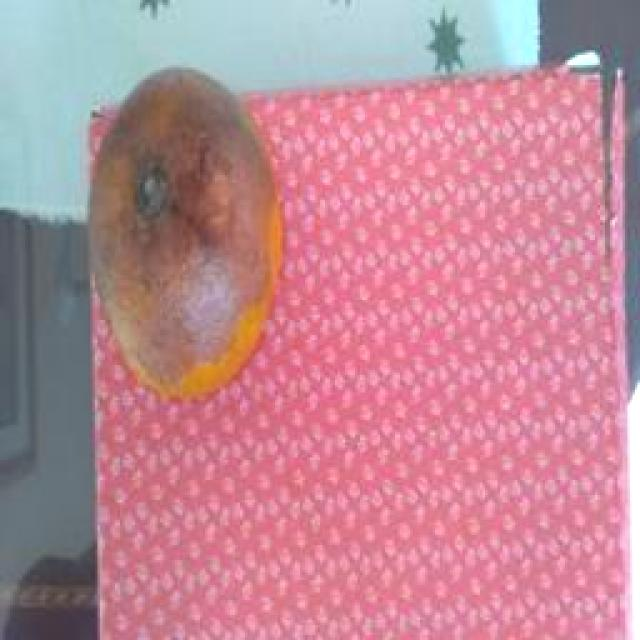Rotten_Orange: (65, 19, 305, 448)
